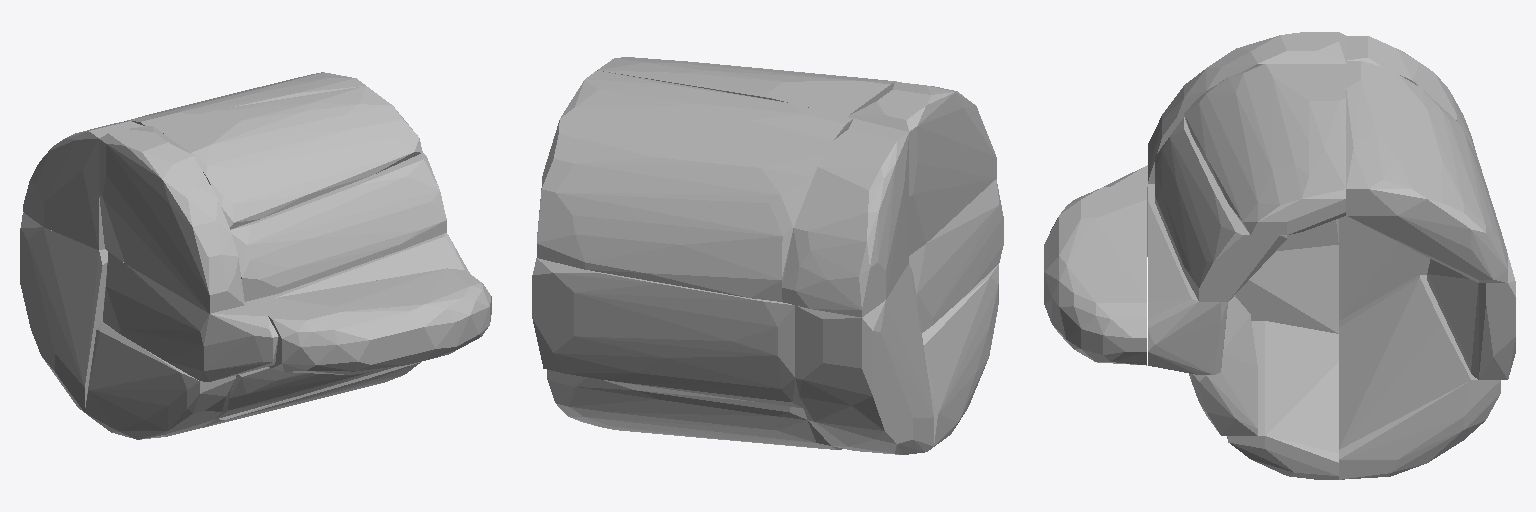
URDF robot description (root):
<robot name="root">
  <link name="link_thingiverse~best_dad_mug_2524828_convex_piece_0">
    <inertial>
      <origin rpy="0 0 0" xyz="0 0 0"/>
      <mass value="3.98E-02"/>
      <inertia ixx="4.27E-05" ixy="-3.13E-05" ixz="1.49E-05" iyy="4.93E-05" iyz="-1.13E-05" izz="6.76E-05"/>
    </inertial>
    <visual>
      <origin rpy="0 0 0" xyz="0 0 0"/>
      <geometry>
        <mesh filename="thingiverse~best_dad_mug_2524828_convex_piece_0.obj" scale="1.0000E+00 1.0000E+00 1.0000E+00"/>
      </geometry>
      <material name="">
        <color rgba="7.50E-01 7.50E-01 7.50E-01 1"/>
      </material>
    </visual>
    <collision>
      <origin rpy="0 0 0" xyz="0 0 0"/>
      <geometry>
        <mesh filename="thingiverse~best_dad_mug_2524828_convex_piece_0.obj" scale="1.0000E+00 1.0000E+00 1.0000E+00"/>
      </geometry>
    </collision>
  </link>
  <link name="link_thingiverse~best_dad_mug_2524828_convex_piece_1">
    <inertial>
      <origin rpy="0 0 0" xyz="0 0 0"/>
      <mass value="3.45E-02"/>
      <inertia ixx="3.29E-05" ixy="6.74E-06" ixz="-2.04E-05" iyy="4.45E-05" iyz="-6.25E-06" izz="2.83E-05"/>
    </inertial>
    <visual>
      <origin rpy="0 0 0" xyz="0 0 0"/>
      <geometry>
        <mesh filename="thingiverse~best_dad_mug_2524828_convex_piece_1.obj" scale="1.0000E+00 1.0000E+00 1.0000E+00"/>
      </geometry>
      <material name="">
        <color rgba="7.50E-01 7.50E-01 7.50E-01 1"/>
      </material>
    </visual>
    <collision>
      <origin rpy="0 0 0" xyz="0 0 0"/>
      <geometry>
        <mesh filename="thingiverse~best_dad_mug_2524828_convex_piece_1.obj" scale="1.0000E+00 1.0000E+00 1.0000E+00"/>
      </geometry>
    </collision>
  </link>
  <joint name="link_thingiverse~best_dad_mug_2524828_convex_piece_1_joint" type="fixed">
    <origin rpy="0 0 0" xyz="0 0 0"/>
    <parent link="link_thingiverse~best_dad_mug_2524828_convex_piece_0"/>
    <child link="link_thingiverse~best_dad_mug_2524828_convex_piece_1"/>
  </joint>
  <link name="link_thingiverse~best_dad_mug_2524828_convex_piece_2">
    <inertial>
      <origin rpy="0 0 0" xyz="0 0 0"/>
      <mass value="2.49E-02"/>
      <inertia ixx="3.34E-05" ixy="-1.79E-05" ixz="-1.51E-05" iyy="3.35E-05" iyz="1.40E-05" izz="3.82E-05"/>
    </inertial>
    <visual>
      <origin rpy="0 0 0" xyz="0 0 0"/>
      <geometry>
        <mesh filename="thingiverse~best_dad_mug_2524828_convex_piece_2.obj" scale="1.0000E+00 1.0000E+00 1.0000E+00"/>
      </geometry>
      <material name="">
        <color rgba="7.50E-01 7.50E-01 7.50E-01 1"/>
      </material>
    </visual>
    <collision>
      <origin rpy="0 0 0" xyz="0 0 0"/>
      <geometry>
        <mesh filename="thingiverse~best_dad_mug_2524828_convex_piece_2.obj" scale="1.0000E+00 1.0000E+00 1.0000E+00"/>
      </geometry>
    </collision>
  </link>
  <joint name="link_thingiverse~best_dad_mug_2524828_convex_piece_2_joint" type="fixed">
    <origin rpy="0 0 0" xyz="0 0 0"/>
    <parent link="link_thingiverse~best_dad_mug_2524828_convex_piece_1"/>
    <child link="link_thingiverse~best_dad_mug_2524828_convex_piece_2"/>
  </joint>
  <link name="link_thingiverse~best_dad_mug_2524828_convex_piece_3">
    <inertial>
      <origin rpy="0 0 0" xyz="0 0 0"/>
      <mass value="6.95E-02"/>
      <inertia ixx="1.22E-04" ixy="3.41E-05" ixz="2.76E-05" iyy="9.02E-05" iyz="4.99E-05" izz="1.14E-04"/>
    </inertial>
    <visual>
      <origin rpy="0 0 0" xyz="0 0 0"/>
      <geometry>
        <mesh filename="thingiverse~best_dad_mug_2524828_convex_piece_3.obj" scale="1.0000E+00 1.0000E+00 1.0000E+00"/>
      </geometry>
      <material name="">
        <color rgba="7.50E-01 7.50E-01 7.50E-01 1"/>
      </material>
    </visual>
    <collision>
      <origin rpy="0 0 0" xyz="0 0 0"/>
      <geometry>
        <mesh filename="thingiverse~best_dad_mug_2524828_convex_piece_3.obj" scale="1.0000E+00 1.0000E+00 1.0000E+00"/>
      </geometry>
    </collision>
  </link>
  <joint name="link_thingiverse~best_dad_mug_2524828_convex_piece_3_joint" type="fixed">
    <origin rpy="0 0 0" xyz="0 0 0"/>
    <parent link="link_thingiverse~best_dad_mug_2524828_convex_piece_2"/>
    <child link="link_thingiverse~best_dad_mug_2524828_convex_piece_3"/>
  </joint>
  <link name="link_thingiverse~best_dad_mug_2524828_convex_piece_4">
    <inertial>
      <origin rpy="0 0 0" xyz="0 0 0"/>
      <mass value="2.95E-02"/>
      <inertia ixx="2.60E-05" ixy="6.48E-06" ixz="1.96E-05" iyy="4.15E-05" iyz="5.52E-06" izz="2.80E-05"/>
    </inertial>
    <visual>
      <origin rpy="0 0 0" xyz="0 0 0"/>
      <geometry>
        <mesh filename="thingiverse~best_dad_mug_2524828_convex_piece_4.obj" scale="1.0000E+00 1.0000E+00 1.0000E+00"/>
      </geometry>
      <material name="">
        <color rgba="7.50E-01 7.50E-01 7.50E-01 1"/>
      </material>
    </visual>
    <collision>
      <origin rpy="0 0 0" xyz="0 0 0"/>
      <geometry>
        <mesh filename="thingiverse~best_dad_mug_2524828_convex_piece_4.obj" scale="1.0000E+00 1.0000E+00 1.0000E+00"/>
      </geometry>
    </collision>
  </link>
  <joint name="link_thingiverse~best_dad_mug_2524828_convex_piece_4_joint" type="fixed">
    <origin rpy="0 0 0" xyz="0 0 0"/>
    <parent link="link_thingiverse~best_dad_mug_2524828_convex_piece_3"/>
    <child link="link_thingiverse~best_dad_mug_2524828_convex_piece_4"/>
  </joint>
  <link name="link_thingiverse~best_dad_mug_2524828_convex_piece_5">
    <inertial>
      <origin rpy="0 0 0" xyz="0 0 0"/>
      <mass value="2.67E-02"/>
      <inertia ixx="1.73E-05" ixy="1.10E-05" ixz="9.14E-07" iyy="1.61E-05" iyz="5.73E-07" izz="3.15E-05"/>
    </inertial>
    <visual>
      <origin rpy="0 0 0" xyz="0 0 0"/>
      <geometry>
        <mesh filename="thingiverse~best_dad_mug_2524828_convex_piece_5.obj" scale="1.0000E+00 1.0000E+00 1.0000E+00"/>
      </geometry>
      <material name="">
        <color rgba="7.50E-01 7.50E-01 7.50E-01 1"/>
      </material>
    </visual>
    <collision>
      <origin rpy="0 0 0" xyz="0 0 0"/>
      <geometry>
        <mesh filename="thingiverse~best_dad_mug_2524828_convex_piece_5.obj" scale="1.0000E+00 1.0000E+00 1.0000E+00"/>
      </geometry>
    </collision>
  </link>
  <joint name="link_thingiverse~best_dad_mug_2524828_convex_piece_5_joint" type="fixed">
    <origin rpy="0 0 0" xyz="0 0 0"/>
    <parent link="link_thingiverse~best_dad_mug_2524828_convex_piece_4"/>
    <child link="link_thingiverse~best_dad_mug_2524828_convex_piece_5"/>
  </joint>
  <link name="link_thingiverse~best_dad_mug_2524828_convex_piece_6">
    <inertial>
      <origin rpy="0 0 0" xyz="0 0 0"/>
      <mass value="5.44E-02"/>
      <inertia ixx="1.04E-04" ixy="2.20E-05" ixz="-2.43E-05" iyy="8.42E-05" iyz="-4.57E-05" izz="7.58E-05"/>
    </inertial>
    <visual>
      <origin rpy="0 0 0" xyz="0 0 0"/>
      <geometry>
        <mesh filename="thingiverse~best_dad_mug_2524828_convex_piece_6.obj" scale="1.0000E+00 1.0000E+00 1.0000E+00"/>
      </geometry>
      <material name="">
        <color rgba="7.50E-01 7.50E-01 7.50E-01 1"/>
      </material>
    </visual>
    <collision>
      <origin rpy="0 0 0" xyz="0 0 0"/>
      <geometry>
        <mesh filename="thingiverse~best_dad_mug_2524828_convex_piece_6.obj" scale="1.0000E+00 1.0000E+00 1.0000E+00"/>
      </geometry>
    </collision>
  </link>
  <joint name="link_thingiverse~best_dad_mug_2524828_convex_piece_6_joint" type="fixed">
    <origin rpy="0 0 0" xyz="0 0 0"/>
    <parent link="link_thingiverse~best_dad_mug_2524828_convex_piece_5"/>
    <child link="link_thingiverse~best_dad_mug_2524828_convex_piece_6"/>
  </joint>
  <link name="link_thingiverse~best_dad_mug_2524828_convex_piece_7">
    <inertial>
      <origin rpy="0 0 0" xyz="0 0 0"/>
      <mass value="3.57E-02"/>
      <inertia ixx="7.51E-05" ixy="1.76E-05" ixz="-1.71E-06" iyy="1.83E-05" iyz="-8.21E-06" izz="8.71E-05"/>
    </inertial>
    <visual>
      <origin rpy="0 0 0" xyz="0 0 0"/>
      <geometry>
        <mesh filename="thingiverse~best_dad_mug_2524828_convex_piece_7.obj" scale="1.0000E+00 1.0000E+00 1.0000E+00"/>
      </geometry>
      <material name="">
        <color rgba="7.50E-01 7.50E-01 7.50E-01 1"/>
      </material>
    </visual>
    <collision>
      <origin rpy="0 0 0" xyz="0 0 0"/>
      <geometry>
        <mesh filename="thingiverse~best_dad_mug_2524828_convex_piece_7.obj" scale="1.0000E+00 1.0000E+00 1.0000E+00"/>
      </geometry>
    </collision>
  </link>
  <joint name="link_thingiverse~best_dad_mug_2524828_convex_piece_7_joint" type="fixed">
    <origin rpy="0 0 0" xyz="0 0 0"/>
    <parent link="link_thingiverse~best_dad_mug_2524828_convex_piece_6"/>
    <child link="link_thingiverse~best_dad_mug_2524828_convex_piece_7"/>
  </joint>
  <link name="link_thingiverse~best_dad_mug_2524828_convex_piece_8">
    <inertial>
      <origin rpy="0 0 0" xyz="0 0 0"/>
      <mass value="3.25E-02"/>
      <inertia ixx="2.80E-05" ixy="-1.05E-05" ixz="1.13E-05" iyy="3.62E-05" iyz="-1.22E-05" izz="4.04E-05"/>
    </inertial>
    <visual>
      <origin rpy="0 0 0" xyz="0 0 0"/>
      <geometry>
        <mesh filename="thingiverse~best_dad_mug_2524828_convex_piece_8.obj" scale="1.0000E+00 1.0000E+00 1.0000E+00"/>
      </geometry>
      <material name="">
        <color rgba="7.50E-01 7.50E-01 7.50E-01 1"/>
      </material>
    </visual>
    <collision>
      <origin rpy="0 0 0" xyz="0 0 0"/>
      <geometry>
        <mesh filename="thingiverse~best_dad_mug_2524828_convex_piece_8.obj" scale="1.0000E+00 1.0000E+00 1.0000E+00"/>
      </geometry>
    </collision>
  </link>
  <joint name="link_thingiverse~best_dad_mug_2524828_convex_piece_8_joint" type="fixed">
    <origin rpy="0 0 0" xyz="0 0 0"/>
    <parent link="link_thingiverse~best_dad_mug_2524828_convex_piece_7"/>
    <child link="link_thingiverse~best_dad_mug_2524828_convex_piece_8"/>
  </joint>
  <link name="link_thingiverse~best_dad_mug_2524828_convex_piece_9">
    <inertial>
      <origin rpy="0 0 0" xyz="0 0 0"/>
      <mass value="3.79E-02"/>
      <inertia ixx="4.74E-05" ixy="-2.51E-07" ixz="1.72E-05" iyy="6.53E-05" iyz="-4.15E-06" izz="2.51E-05"/>
    </inertial>
    <visual>
      <origin rpy="0 0 0" xyz="0 0 0"/>
      <geometry>
        <mesh filename="thingiverse~best_dad_mug_2524828_convex_piece_9.obj" scale="1.0000E+00 1.0000E+00 1.0000E+00"/>
      </geometry>
      <material name="">
        <color rgba="7.50E-01 7.50E-01 7.50E-01 1"/>
      </material>
    </visual>
    <collision>
      <origin rpy="0 0 0" xyz="0 0 0"/>
      <geometry>
        <mesh filename="thingiverse~best_dad_mug_2524828_convex_piece_9.obj" scale="1.0000E+00 1.0000E+00 1.0000E+00"/>
      </geometry>
    </collision>
  </link>
  <joint name="link_thingiverse~best_dad_mug_2524828_convex_piece_9_joint" type="fixed">
    <origin rpy="0 0 0" xyz="0 0 0"/>
    <parent link="link_thingiverse~best_dad_mug_2524828_convex_piece_8"/>
    <child link="link_thingiverse~best_dad_mug_2524828_convex_piece_9"/>
  </joint>
  <link name="link_thingiverse~best_dad_mug_2524828_convex_piece_10">
    <inertial>
      <origin rpy="0 0 0" xyz="0 0 0"/>
      <mass value="3.18E-02"/>
      <inertia ixx="4.44E-05" ixy="-1.56E-06" ixz="-1.76E-05" iyy="6.05E-05" iyz="3.80E-06" izz="2.09E-05"/>
    </inertial>
    <visual>
      <origin rpy="0 0 0" xyz="0 0 0"/>
      <geometry>
        <mesh filename="thingiverse~best_dad_mug_2524828_convex_piece_10.obj" scale="1.0000E+00 1.0000E+00 1.0000E+00"/>
      </geometry>
      <material name="">
        <color rgba="7.50E-01 7.50E-01 7.50E-01 1"/>
      </material>
    </visual>
    <collision>
      <origin rpy="0 0 0" xyz="0 0 0"/>
      <geometry>
        <mesh filename="thingiverse~best_dad_mug_2524828_convex_piece_10.obj" scale="1.0000E+00 1.0000E+00 1.0000E+00"/>
      </geometry>
    </collision>
  </link>
  <joint name="link_thingiverse~best_dad_mug_2524828_convex_piece_10_joint" type="fixed">
    <origin rpy="0 0 0" xyz="0 0 0"/>
    <parent link="link_thingiverse~best_dad_mug_2524828_convex_piece_9"/>
    <child link="link_thingiverse~best_dad_mug_2524828_convex_piece_10"/>
  </joint>
  <link name="link_thingiverse~best_dad_mug_2524828_convex_piece_11">
    <inertial>
      <origin rpy="0 0 0" xyz="0 0 0"/>
      <mass value="2.98E-02"/>
      <inertia ixx="2.90E-05" ixy="-8.93E-06" ixz="-9.39E-06" iyy="3.24E-05" iyz="1.33E-05" izz="3.36E-05"/>
    </inertial>
    <visual>
      <origin rpy="0 0 0" xyz="0 0 0"/>
      <geometry>
        <mesh filename="thingiverse~best_dad_mug_2524828_convex_piece_11.obj" scale="1.0000E+00 1.0000E+00 1.0000E+00"/>
      </geometry>
      <material name="">
        <color rgba="7.50E-01 7.50E-01 7.50E-01 1"/>
      </material>
    </visual>
    <collision>
      <origin rpy="0 0 0" xyz="0 0 0"/>
      <geometry>
        <mesh filename="thingiverse~best_dad_mug_2524828_convex_piece_11.obj" scale="1.0000E+00 1.0000E+00 1.0000E+00"/>
      </geometry>
    </collision>
  </link>
  <joint name="link_thingiverse~best_dad_mug_2524828_convex_piece_11_joint" type="fixed">
    <origin rpy="0 0 0" xyz="0 0 0"/>
    <parent link="link_thingiverse~best_dad_mug_2524828_convex_piece_10"/>
    <child link="link_thingiverse~best_dad_mug_2524828_convex_piece_11"/>
  </joint>
  <link name="link_thingiverse~best_dad_mug_2524828_convex_piece_12">
    <inertial>
      <origin rpy="0 0 0" xyz="0 0 0"/>
      <mass value="4.26E-02"/>
      <inertia ixx="1.06E-04" ixy="-3.86E-05" ixz="-1.51E-06" iyy="2.94E-05" iyz="1.69E-06" izz="1.34E-04"/>
    </inertial>
    <visual>
      <origin rpy="0 0 0" xyz="0 0 0"/>
      <geometry>
        <mesh filename="thingiverse~best_dad_mug_2524828_convex_piece_12.obj" scale="1.0000E+00 1.0000E+00 1.0000E+00"/>
      </geometry>
      <material name="">
        <color rgba="7.50E-01 7.50E-01 7.50E-01 1"/>
      </material>
    </visual>
    <collision>
      <origin rpy="0 0 0" xyz="0 0 0"/>
      <geometry>
        <mesh filename="thingiverse~best_dad_mug_2524828_convex_piece_12.obj" scale="1.0000E+00 1.0000E+00 1.0000E+00"/>
      </geometry>
    </collision>
  </link>
  <joint name="link_thingiverse~best_dad_mug_2524828_convex_piece_12_joint" type="fixed">
    <origin rpy="0 0 0" xyz="0 0 0"/>
    <parent link="link_thingiverse~best_dad_mug_2524828_convex_piece_11"/>
    <child link="link_thingiverse~best_dad_mug_2524828_convex_piece_12"/>
  </joint>
  <link name="link_thingiverse~best_dad_mug_2524828_convex_piece_13">
    <inertial>
      <origin rpy="0 0 0" xyz="0 0 0"/>
      <mass value="3.67E-02"/>
      <inertia ixx="3.45E-05" ixy="-2.44E-05" ixz="-1.27E-06" iyy="3.49E-05" iyz="1.60E-06" izz="6.70E-05"/>
    </inertial>
    <visual>
      <origin rpy="0 0 0" xyz="0 0 0"/>
      <geometry>
        <mesh filename="thingiverse~best_dad_mug_2524828_convex_piece_13.obj" scale="1.0000E+00 1.0000E+00 1.0000E+00"/>
      </geometry>
      <material name="">
        <color rgba="7.50E-01 7.50E-01 7.50E-01 1"/>
      </material>
    </visual>
    <collision>
      <origin rpy="0 0 0" xyz="0 0 0"/>
      <geometry>
        <mesh filename="thingiverse~best_dad_mug_2524828_convex_piece_13.obj" scale="1.0000E+00 1.0000E+00 1.0000E+00"/>
      </geometry>
    </collision>
  </link>
  <joint name="link_thingiverse~best_dad_mug_2524828_convex_piece_13_joint" type="fixed">
    <origin rpy="0 0 0" xyz="0 0 0"/>
    <parent link="link_thingiverse~best_dad_mug_2524828_convex_piece_12"/>
    <child link="link_thingiverse~best_dad_mug_2524828_convex_piece_13"/>
  </joint>
</robot>

--- Render facts (derived) ---
3 views of the same robot in one strip: view 1: azimuth 30°, elevation 25°; view 2: azimuth 150°, elevation 25°; view 3: azimuth 270°, elevation 25° (orthographic).
Robot: root — 14 links, 13 joints (13 fixed); root link link_thingiverse~best_dad_mug_2524828_convex_piece_0; default pose: every joint at zero.
Links seen in each view (by area): view 1: link_thingiverse~best_dad_mug_2524828_convex_piece_9, link_thingiverse~best_dad_mug_2524828_convex_piece_1, link_thingiverse~best_dad_mug_2524828_convex_piece_12, link_thingiverse~best_dad_mug_2524828_convex_piece_8, link_thingiverse~best_dad_mug_2524828_convex_piece_5, link_thingiverse~best_dad_mug_2524828_convex_piece_0, link_thingiverse~best_dad_mug_2524828_convex_piece_4, link_thingiverse~best_dad_mug_2524828_convex_piece_2, link_thingiverse~best_dad_mug_2524828_convex_piece_13, link_thingiverse~best_dad_mug_2524828_convex_piece_11, link_thingiverse~best_dad_mug_2524828_convex_piece_3, link_thingiverse~best_dad_mug_2524828_convex_piece_10; view 2: link_thingiverse~best_dad_mug_2524828_convex_piece_3, link_thingiverse~best_dad_mug_2524828_convex_piece_7, link_thingiverse~best_dad_mug_2524828_convex_piece_2, link_thingiverse~best_dad_mug_2524828_convex_piece_0, link_thingiverse~best_dad_mug_2524828_convex_piece_1, link_thingiverse~best_dad_mug_2524828_convex_piece_6, link_thingiverse~best_dad_mug_2524828_convex_piece_9, link_thingiverse~best_dad_mug_2524828_convex_piece_5, link_thingiverse~best_dad_mug_2524828_convex_piece_4; view 3: link_thingiverse~best_dad_mug_2524828_convex_piece_3, link_thingiverse~best_dad_mug_2524828_convex_piece_6, link_thingiverse~best_dad_mug_2524828_convex_piece_9, link_thingiverse~best_dad_mug_2524828_convex_piece_12, link_thingiverse~best_dad_mug_2524828_convex_piece_10, link_thingiverse~best_dad_mug_2524828_convex_piece_8, link_thingiverse~best_dad_mug_2524828_convex_piece_13, link_thingiverse~best_dad_mug_2524828_convex_piece_7, link_thingiverse~best_dad_mug_2524828_convex_piece_4, link_thingiverse~best_dad_mug_2524828_convex_piece_1, link_thingiverse~best_dad_mug_2524828_convex_piece_11, link_thingiverse~best_dad_mug_2524828_convex_piece_0 (+2 smaller).
Link boxes in pixels (x1=…): link_thingiverse~best_dad_mug_2524828_convex_piece_9: x1=153, y1=86, x2=422, y2=229; link_thingiverse~best_dad_mug_2524828_convex_piece_1: x1=99, y1=126, x2=244, y2=313; link_thingiverse~best_dad_mug_2524828_convex_piece_12: x1=252, y1=268, x2=491, y2=374; link_thingiverse~best_dad_mug_2524828_convex_piece_8: x1=230, y1=153, x2=446, y2=301; link_thingiverse~best_dad_mug_2524828_convex_piece_5: x1=103, y1=252, x2=278, y2=381; link_thingiverse~best_dad_mug_2524828_convex_piece_0: x1=20, y1=212, x2=107, y2=412; link_thingiverse~best_dad_mug_2524828_convex_piece_4: x1=85, y1=321, x2=235, y2=439; link_thingiverse~best_dad_mug_2524828_convex_piece_2: x1=23, y1=121, x2=144, y2=249; link_thingiverse~best_dad_mug_2524828_convex_piece_13: x1=248, y1=233, x2=469, y2=303; link_thingiverse~best_dad_mug_2524828_convex_piece_11: x1=215, y1=367, x2=390, y2=419; link_thingiverse~best_dad_mug_2524828_convex_piece_3: x1=124, y1=72, x2=365, y2=125; link_thingiverse~best_dad_mug_2524828_convex_piece_10: x1=203, y1=362, x2=420, y2=427; link_thingiverse~best_dad_mug_2524828_convex_piece_3: x1=537, y1=71, x2=853, y2=301; link_thingiverse~best_dad_mug_2524828_convex_piece_7: x1=532, y1=258, x2=802, y2=407; link_thingiverse~best_dad_mug_2524828_convex_piece_2: x1=782, y1=119, x2=908, y2=317; link_thingiverse~best_dad_mug_2524828_convex_piece_0: x1=795, y1=264, x2=933, y2=454; link_thingiverse~best_dad_mug_2524828_convex_piece_1: x1=847, y1=82, x2=996, y2=255; link_thingiverse~best_dad_mug_2524828_convex_piece_6: x1=547, y1=370, x2=842, y2=449; link_thingiverse~best_dad_mug_2524828_convex_piece_9: x1=597, y1=57, x2=896, y2=116; link_thingiverse~best_dad_mug_2524828_convex_piece_5: x1=909, y1=179, x2=1003, y2=332; link_thingiverse~best_dad_mug_2524828_convex_piece_4: x1=922, y1=264, x2=998, y2=451; link_thingiverse~best_dad_mug_2524828_convex_piece_3: x1=1346, y1=61, x2=1507, y2=282; link_thingiverse~best_dad_mug_2524828_convex_piece_6: x1=1339, y1=275, x2=1500, y2=479; link_thingiverse~best_dad_mug_2524828_convex_piece_9: x1=1184, y1=64, x2=1345, y2=234; link_thingiverse~best_dad_mug_2524828_convex_piece_12: x1=1044, y1=187, x2=1146, y2=365; link_thingiverse~best_dad_mug_2524828_convex_piece_10: x1=1227, y1=321, x2=1338, y2=479; link_thingiverse~best_dad_mug_2524828_convex_piece_8: x1=1155, y1=117, x2=1286, y2=301; link_thingiverse~best_dad_mug_2524828_convex_piece_13: x1=1148, y1=187, x2=1227, y2=374; link_thingiverse~best_dad_mug_2524828_convex_piece_7: x1=1427, y1=257, x2=1515, y2=379; link_thingiverse~best_dad_mug_2524828_convex_piece_4: x1=1235, y1=245, x2=1338, y2=333; link_thingiverse~best_dad_mug_2524828_convex_piece_1: x1=1148, y1=32, x2=1345, y2=183; link_thingiverse~best_dad_mug_2524828_convex_piece_11: x1=1189, y1=295, x2=1257, y2=435; link_thingiverse~best_dad_mug_2524828_convex_piece_0: x1=1339, y1=216, x2=1429, y2=320.
Size in the robot's own frame: 0.096 by 0.1181 by 0.0886 metres.
Meshes: 14 distinct files referenced, 14 mesh visuals loaded (14 OBJ).
